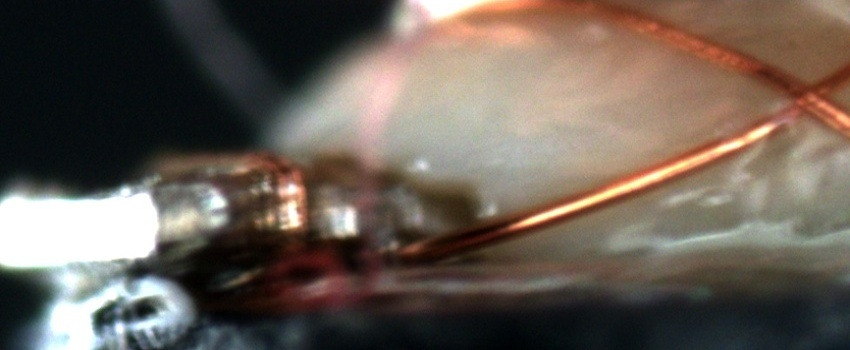CL: (758, 60, 842, 135)
TE: (207, 144, 315, 264)
